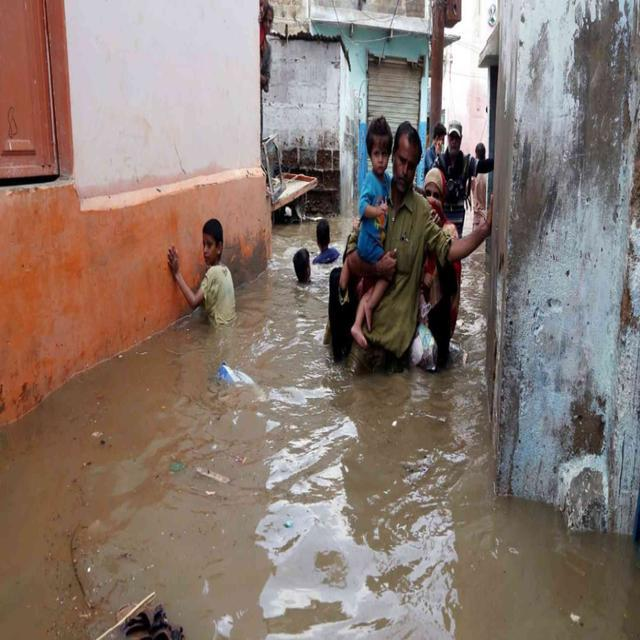Person-RiskLevel3: (343, 112, 477, 388), (160, 210, 268, 338), (284, 210, 343, 300)
